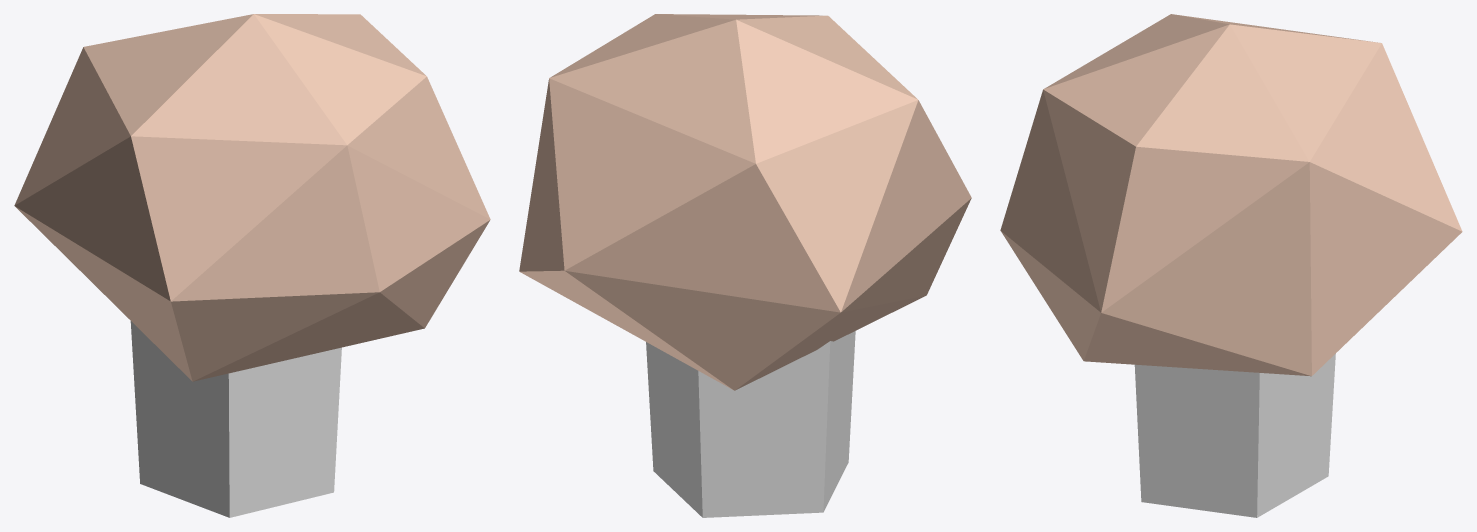
Rendered from Mushroom_g_02.fbx.
3 views of the same model, side by side, from view 1: azimuth 30°, elevation 25°; view 2: azimuth 150°, elevation 25°; view 3: azimuth 270°, elevation 25° (orthographic).
Visible parts, largest first — view 1: Mushroom_g_02; view 2: Mushroom_g_02; view 3: Mushroom_g_02.
Part boxes in pixels (x1,y1,x2,y2): Mushroom_g_02: (14,14,490,517); Mushroom_g_02: (519,14,971,517); Mushroom_g_02: (1000,14,1462,517).
Bounding box in the file's own units: 11.34 × 14.23 × 12.97.
